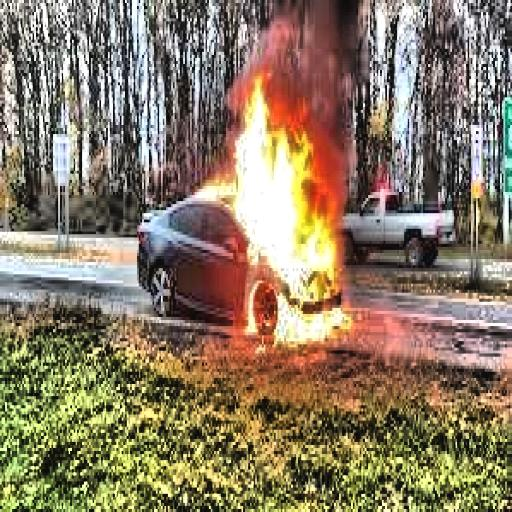fire: (209, 82, 366, 354)
